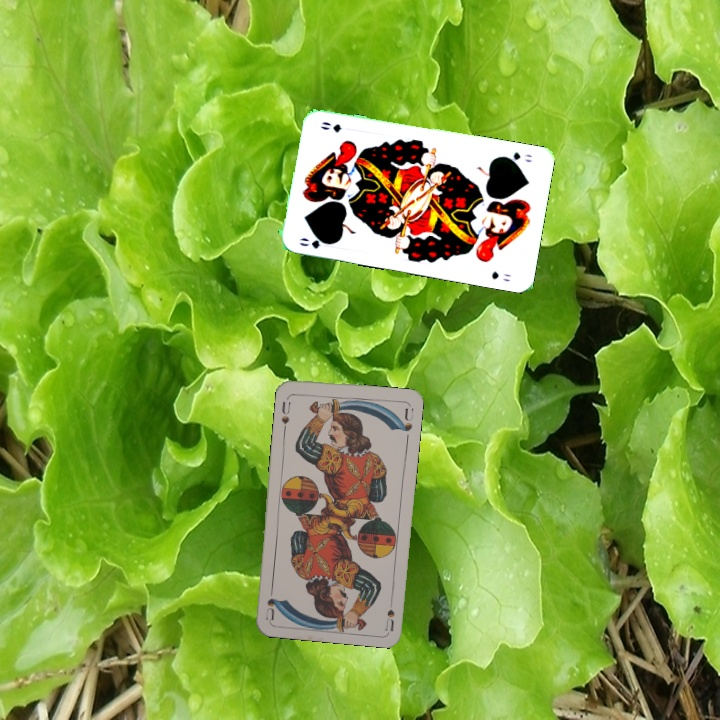GO: (296, 233, 332, 251), (497, 148, 535, 165)
SU: (381, 591, 397, 632), (277, 392, 293, 426)
